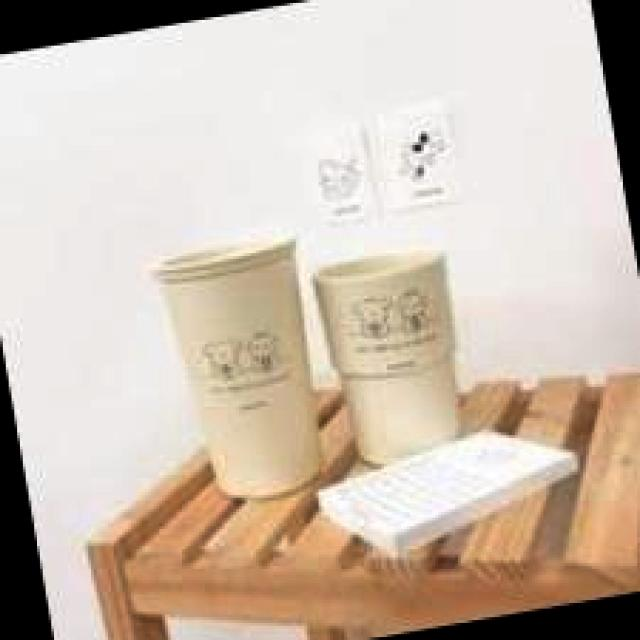bottle: (145, 225, 336, 512), (304, 236, 486, 467)
